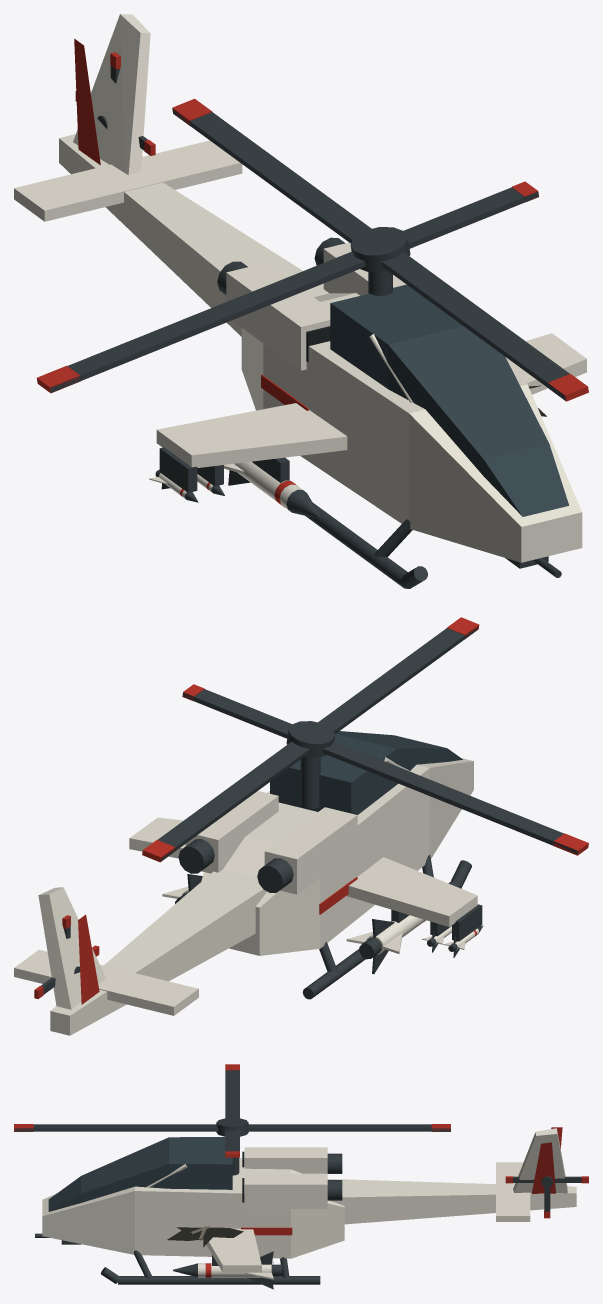
The picture shows the model from 3 angles, top to bottom: view 1: azimuth 30°, elevation 25°; view 2: azimuth 150°, elevation 25°; view 3: azimuth 270°, elevation 25°; orthographic projection. The views are drawn at different scales.
Visible parts, largest first — view 1: helicopter-damaged-fleet-armor, helicopter-damaged-fleet-glass, blade-arm-2-painted, helicopter-damaged-fleet-machine, blade-arm-3-painted, blade-arm-1-painted, blade-arm-0-painted, helicopter-damaged-fleet-red, store-left-large-painted, rotor-main-fleet-machine; view 2: helicopter-damaged-fleet-armor, helicopter-damaged-fleet-glass, helicopter-damaged-fleet-machine, blade-arm-2-painted, blade-arm-1-painted, blade-arm-3-painted, store-left-large-painted, blade-arm-0-painted, helicopter-damaged-fleet-red, rotor-main-fleet-machine; view 3: helicopter-damaged-fleet-armor, helicopter-damaged-fleet-glass, helicopter-damaged-fleet-machine, blade-arm-1-painted, blade-arm-3-painted, store-right-large-painted, helicopter-damaged-fleet-red, blade-arm-2-painted, helicopter-damaged-fleet-damage-charred, rotor-main-fleet-machine, blade-arm-0-painted.
Boxes of the visible parts, <box> form: helicopter-damaged-fleet-armor: <box>14,14,586,562</box>; helicopter-damaged-fleet-glass: <box>330,284,569,516</box>; blade-arm-2-painted: <box>37,251,365,393</box>; helicopter-damaged-fleet-machine: <box>159,237,427,588</box>; blade-arm-3-painted: <box>381,252,588,401</box>; blade-arm-1-painted: <box>172,98,371,243</box>; blade-arm-0-painted: <box>403,181,538,248</box>; helicopter-damaged-fleet-red: <box>74,38,308,410</box>; store-left-large-painted: <box>224,461,321,518</box>; rotor-main-fleet-machine: <box>350,227,410,271</box>; helicopter-damaged-fleet-armor: <box>14,757,477,1035</box>; helicopter-damaged-fleet-glass: <box>270,731,462,814</box>; helicopter-damaged-fleet-machine: <box>178,756,482,999</box>; blade-arm-2-painted: <box>322,741,588,855</box>; blade-arm-1-painted: <box>142,741,309,862</box>; blade-arm-3-painted: <box>318,617,479,734</box>; store-left-large-painted: <box>346,915,425,974</box>; blade-arm-0-painted: <box>182,684,291,738</box>; helicopter-damaged-fleet-red: <box>78,877,357,1004</box>; rotor-main-fleet-machine: <box>286,721,334,757</box>; helicopter-damaged-fleet-armor: <box>42,1128,576,1272</box>; helicopter-damaged-fleet-glass: <box>48,1137,232,1211</box>; helicopter-damaged-fleet-machine: <box>100,1153,342,1284</box>; blade-arm-1-painted: <box>246,1124,450,1131</box>; blade-arm-3-painted: <box>14,1124,218,1131</box>; store-right-large-painted: <box>173,1251,282,1289</box>; helicopter-damaged-fleet-red: <box>241,1127,562,1235</box>; blade-arm-2-painted: <box>225,1064,239,1118</box>; helicopter-damaged-fleet-damage-charred: <box>167,1227,243,1247</box>; rotor-main-fleet-machine: <box>216,1118,248,1136</box>; blade-arm-0-painted: <box>225,1130,239,1157</box>.
Bounding box in the file's own units: 39.59 × 19.2 × 66.32.
